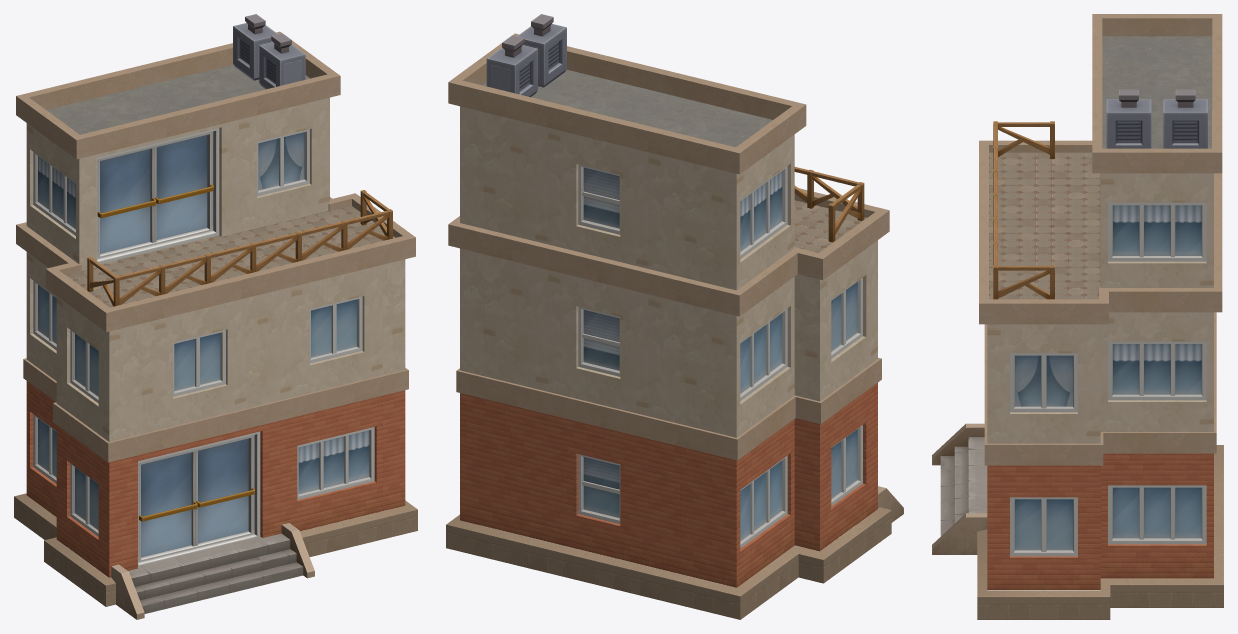
Rendered from Building_1.glb.
The picture shows the model from 3 angles, left to right: view 1: azimuth 30°, elevation 25°; view 2: azimuth 150°, elevation 25°; view 3: azimuth 270°, elevation 25°; orthographic projection. The views are drawn at different scales.
Parts seen in each view (by area): view 1: Building_1; view 2: Building_1; view 3: Building_1.
Boxes of the visible parts, x1,y1,x2,y2 form: Building_1: [14, 14, 417, 619]; Building_1: [446, 14, 903, 619]; Building_1: [932, 14, 1223, 619].
Size of the model in its own units: 6.85 by 9.6 by 5.15.
Materials: 11 (11 with a texture image).
